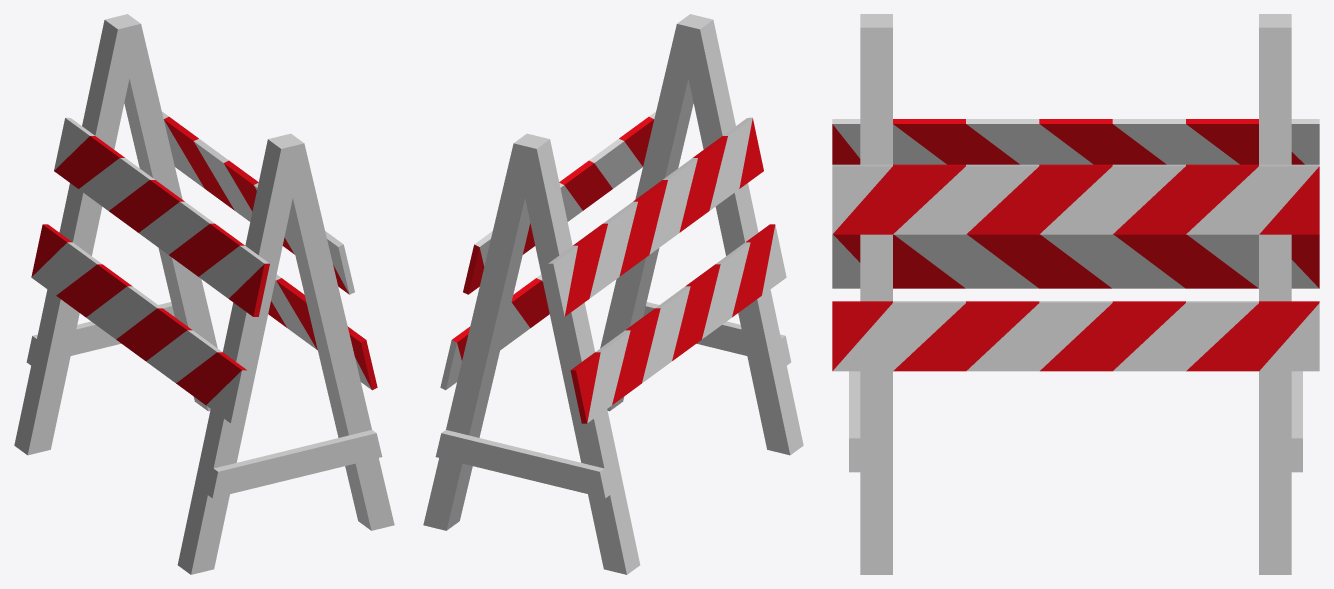
The model's file is DroneRacingTrafficFencefbx.fbx.
3 renders of one model, left to right at view 1: azimuth 30°, elevation 25°; view 2: azimuth 150°, elevation 25°; view 3: azimuth 270°, elevation 25°, orthographic. The views are drawn at different scales.
Visible parts, largest first — view 1: TrafficFence; view 2: TrafficFence; view 3: TrafficFence.
Boxes of the visible parts, x1,y1,x2,y2 form: TrafficFence: [14, 14, 394, 574]; TrafficFence: [423, 14, 803, 574]; TrafficFence: [832, 14, 1319, 574].
Size of the model in its own units: 271 by 514 by 460.
